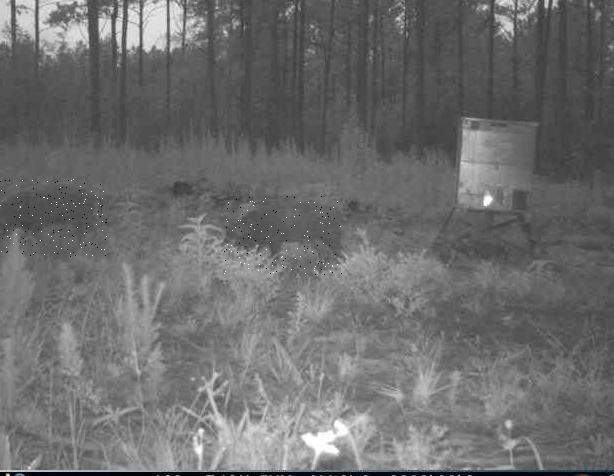Hog: (224, 197, 343, 276), (0, 179, 107, 257)
